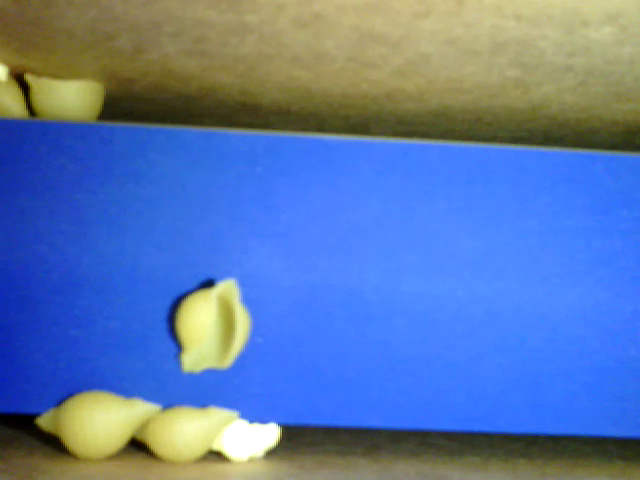shell: (37, 390, 166, 461), (170, 268, 251, 376), (130, 401, 242, 464), (23, 70, 107, 124)
